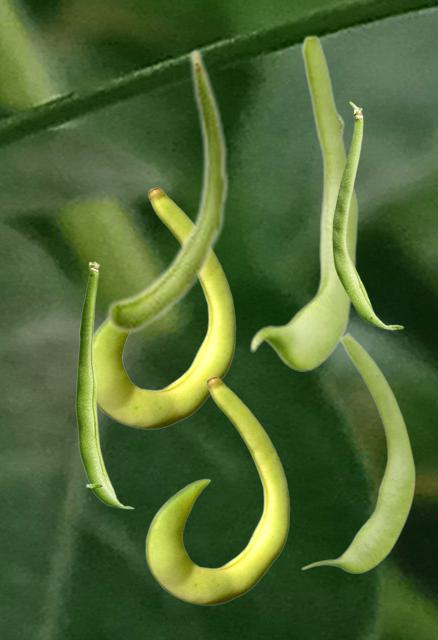french_bean: (249, 33, 357, 370), (105, 47, 229, 333), (94, 187, 235, 428), (145, 376, 289, 604), (300, 331, 415, 572), (332, 101, 403, 329), (75, 261, 134, 508)
